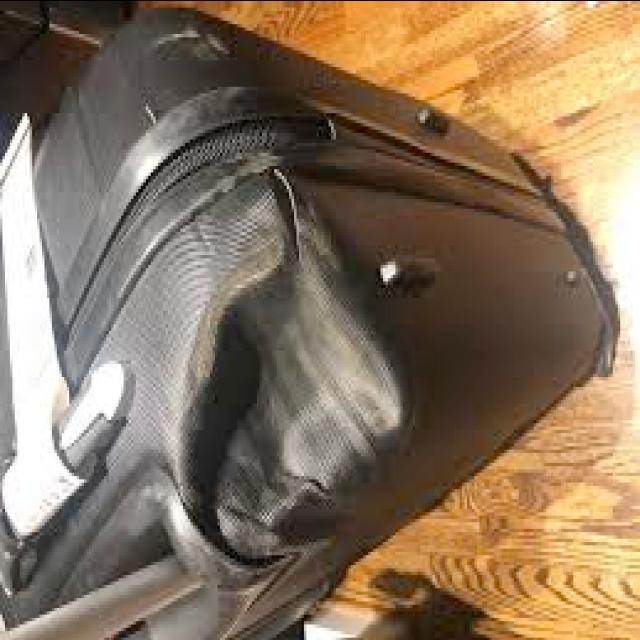Damage-bag: (181, 169, 403, 560)
